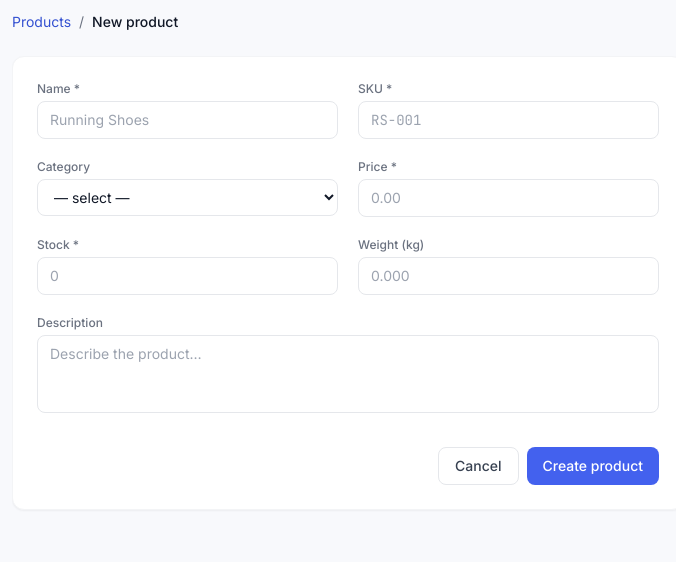
it: ProductFormPage › create mode › shows validation error when name is missing
Click the button "Create product".
click(593, 466)  # box [526,447,659,485]
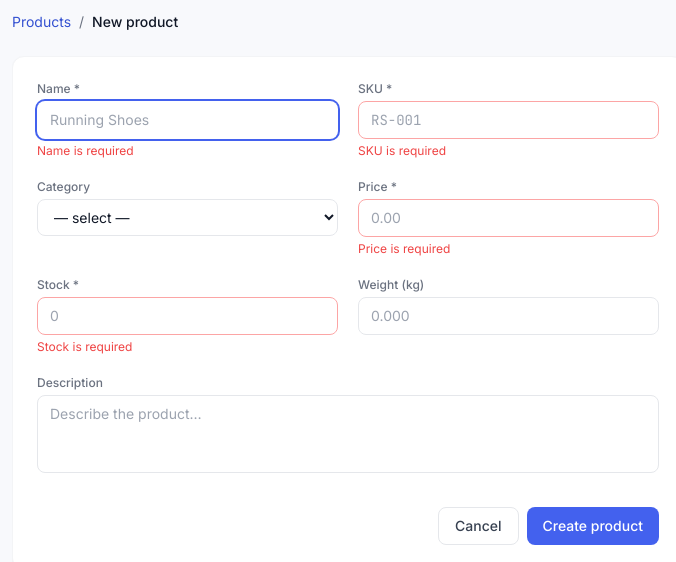
Result: the text "Name is required" is shown at [37,143,134,158]
